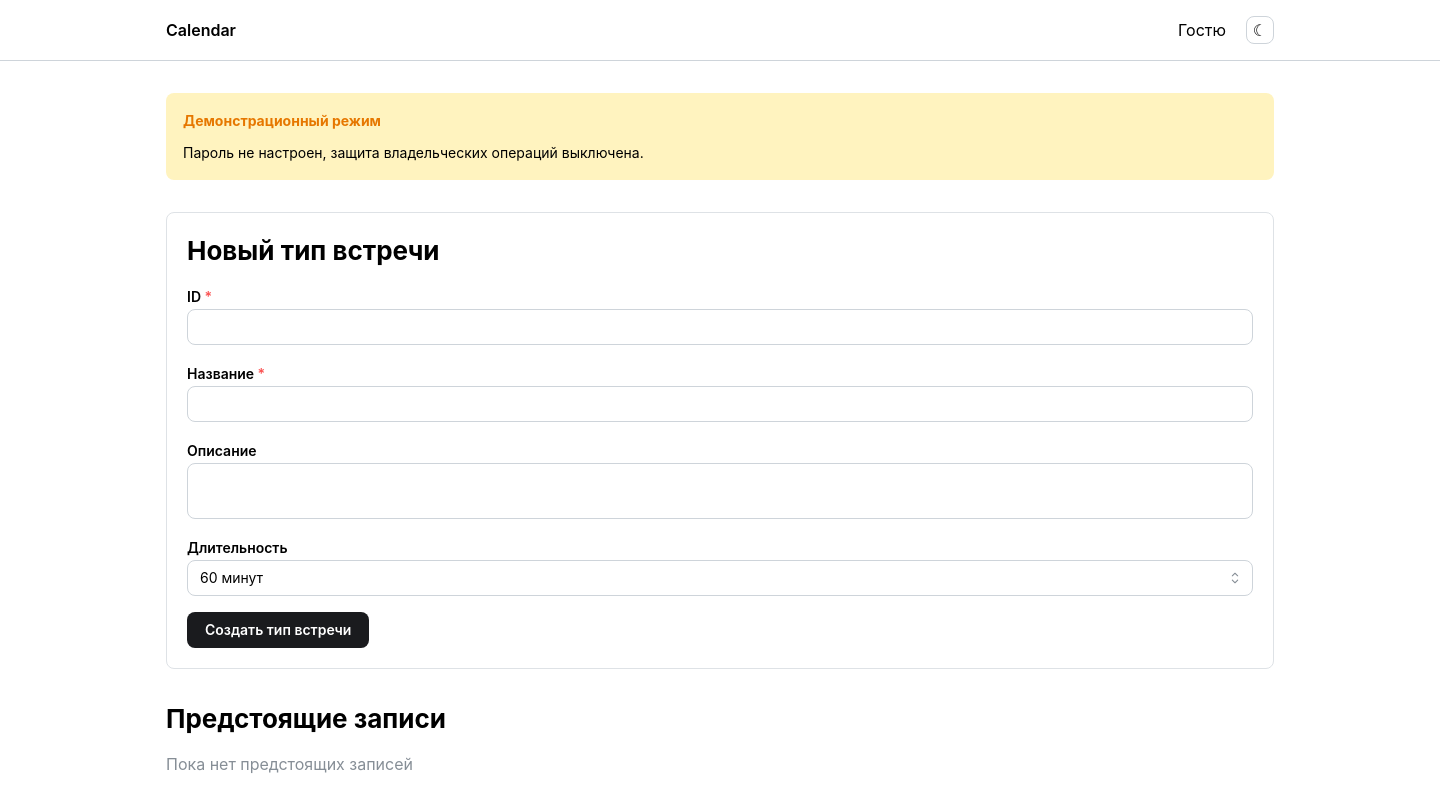
Test: creates a meeting type and refreshes the list
Type "intro" into the field labelled "ID *".
click(720, 327); type("intro")  # box [187,309,1253,345]
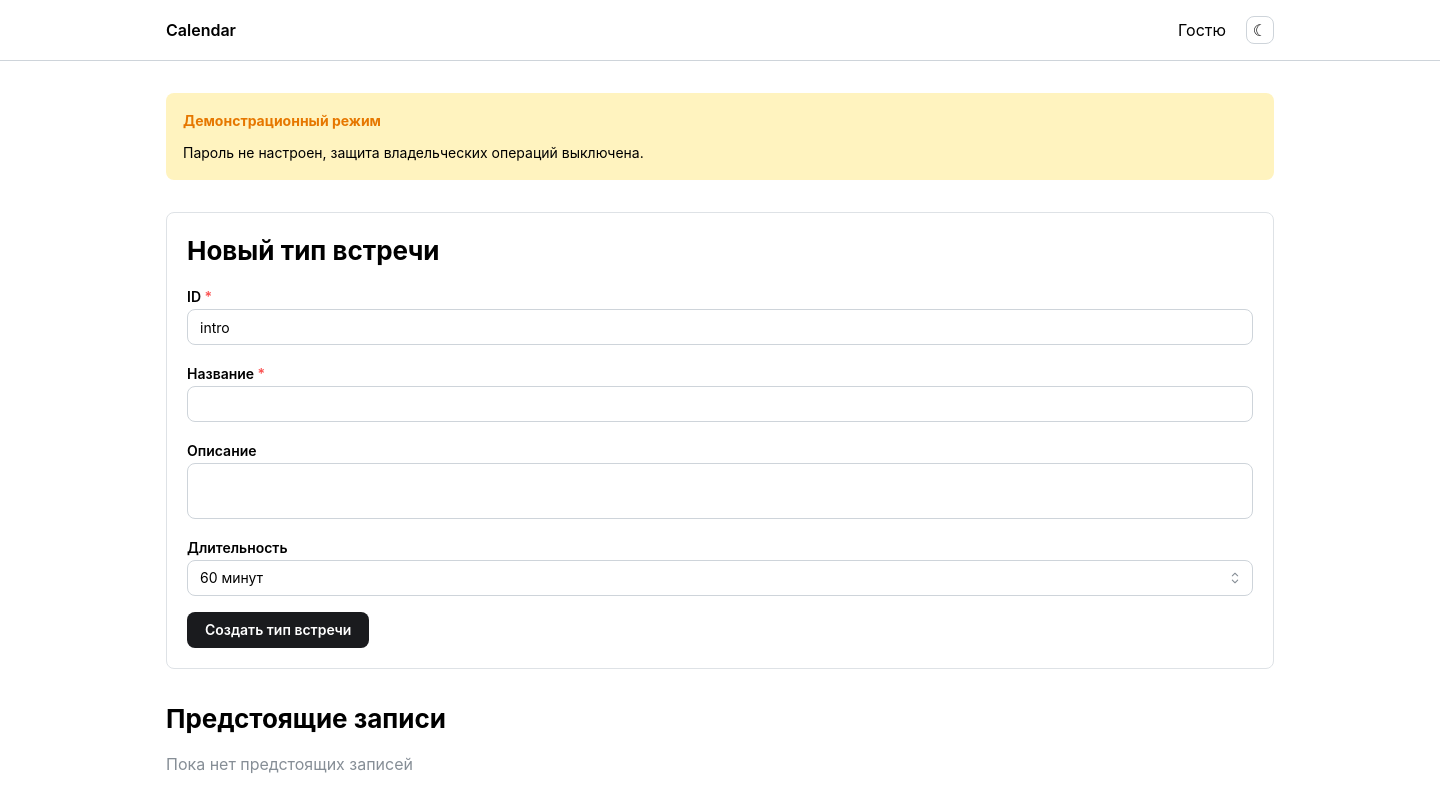
Type "Вводный звонок" into the field labelled "Название *".
click(720, 404); type("Вводный звонок")  # box [187,386,1253,422]
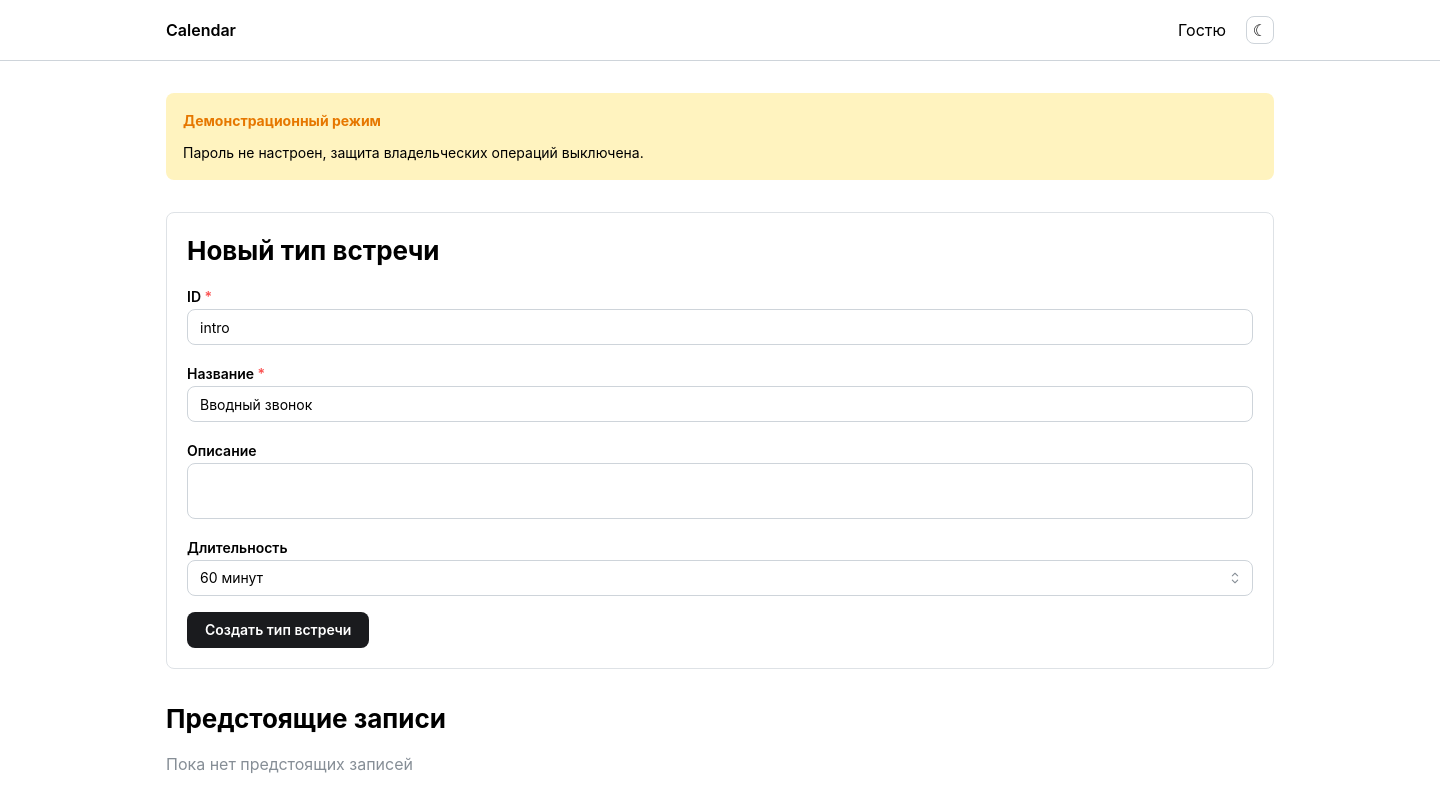
Type "Знакомство с командой" into the text box labelled "Описание".
click(720, 491); type("Знакомство с командой")  # box [187,463,1253,519]
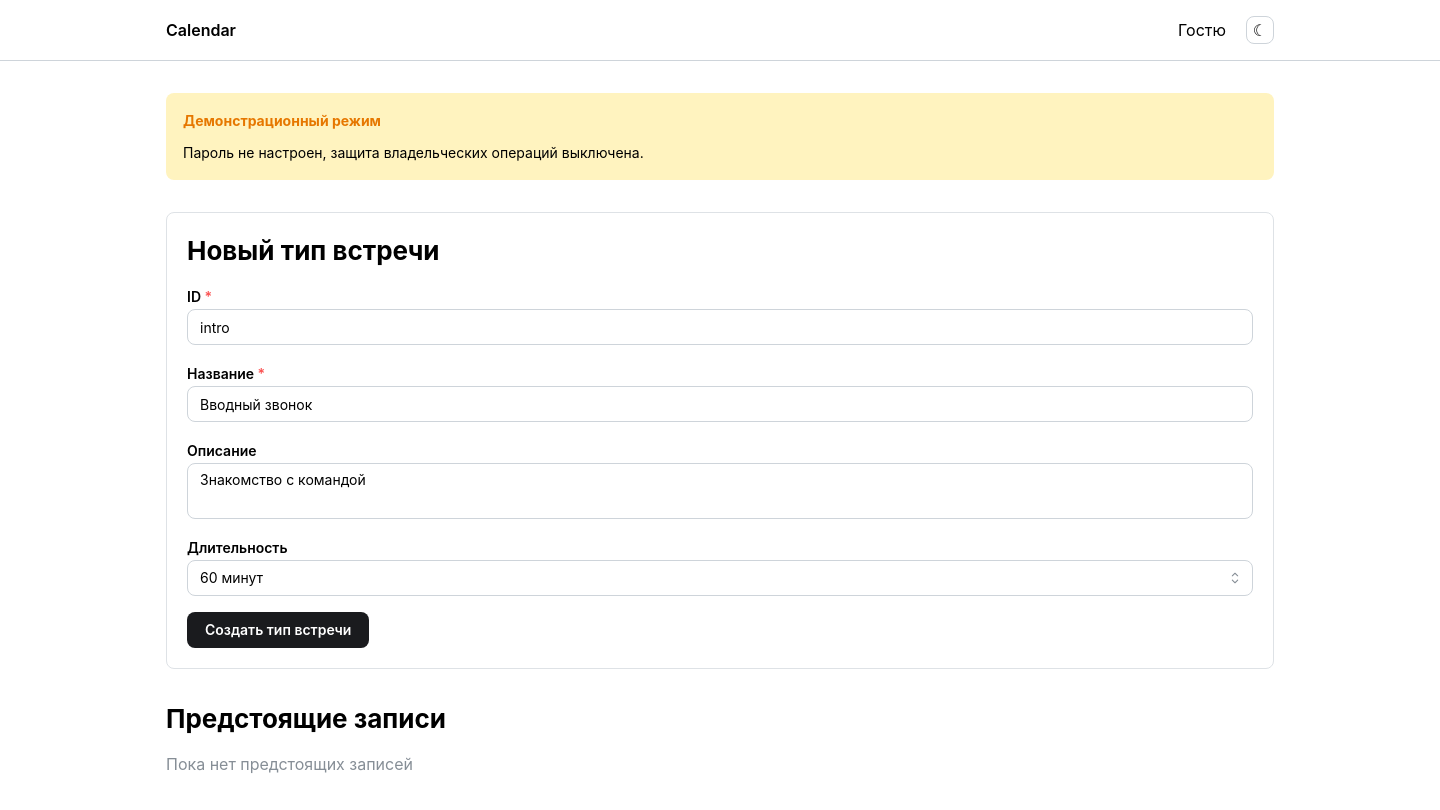
Select "60 минут" in the dropdown labelled "Длительность" at point(720, 578), box [187,560,1253,596]
Click the button "Создать тип встречи".
click(278, 630)  # box [187,612,369,648]
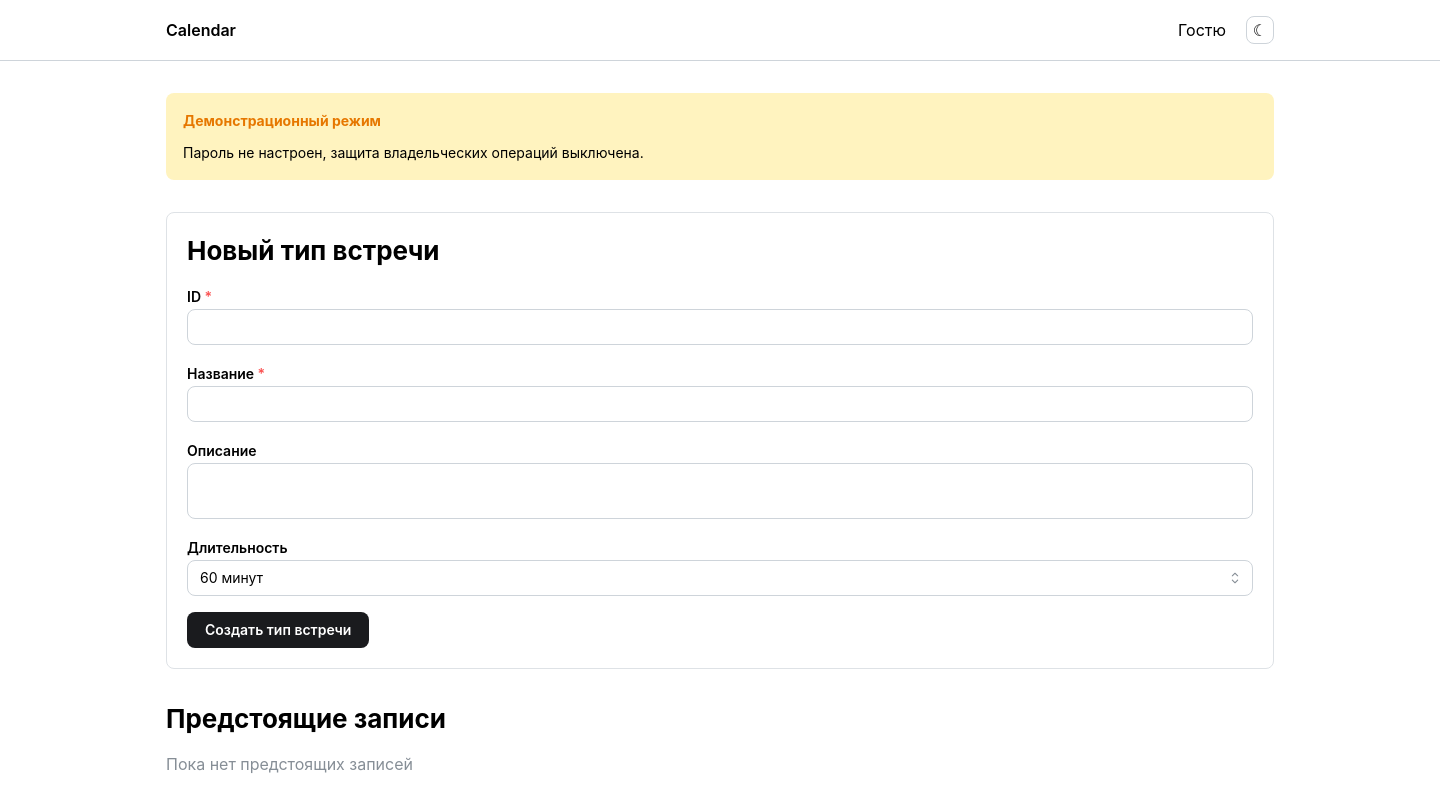
Now the field labelled "Название *" is empty, box [187,386,1253,422]
